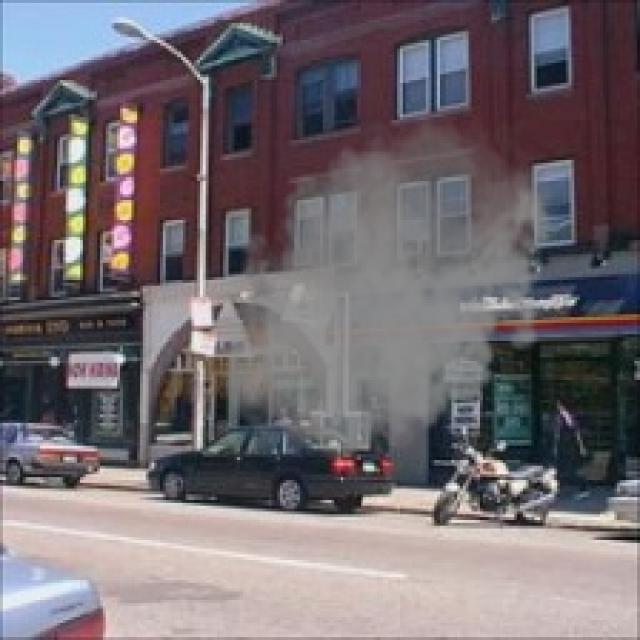smoke: (217, 97, 563, 472)
